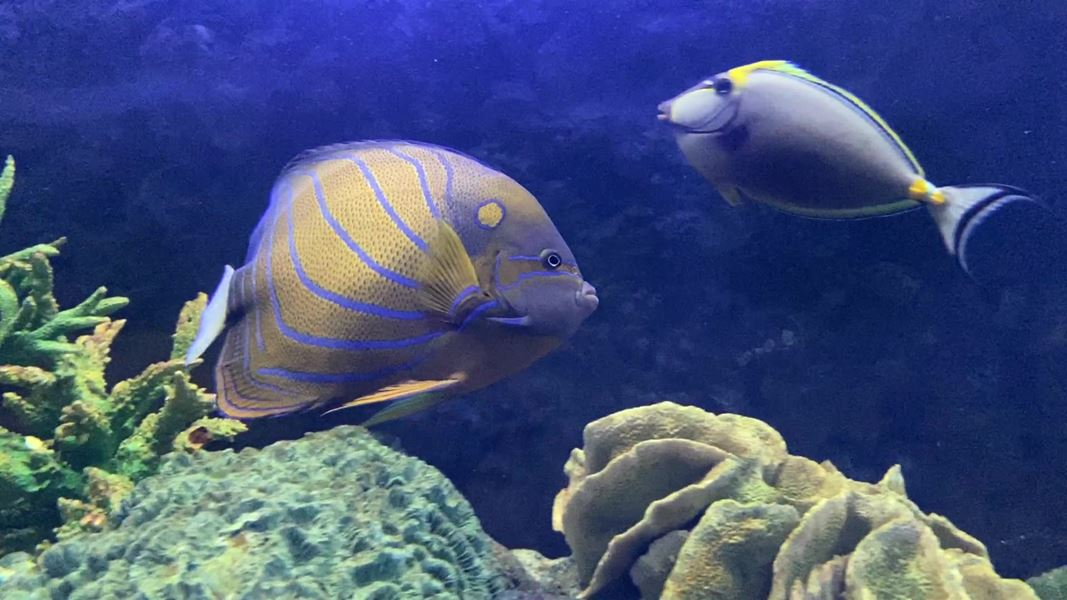Blue ring angelfish: (166, 126, 609, 438)
